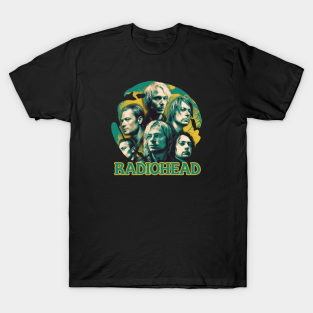design: (108, 78, 204, 177)
